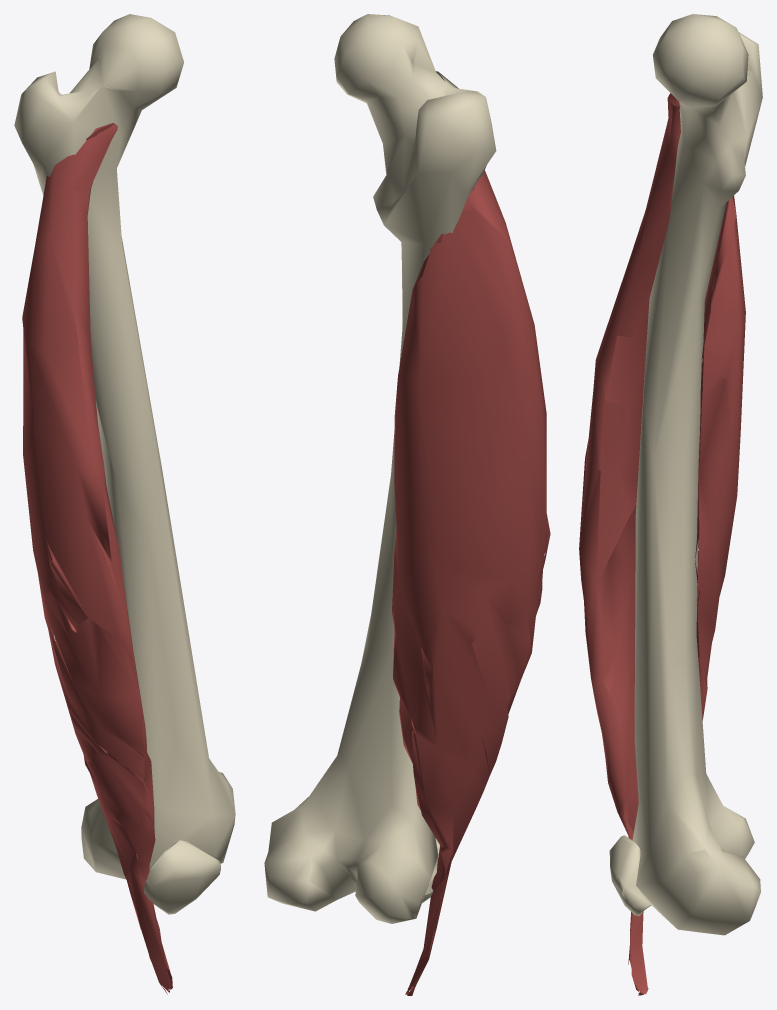
Rendered from muscle-context.glb.
The picture shows the model from 3 angles, left to right: view 1: azimuth 30°, elevation 25°; view 2: azimuth 150°, elevation 25°; view 3: azimuth 270°, elevation 25°; orthographic projection. The views are drawn at different scales.
Visible parts, largest first — view 1: FJ3365, FJ1442, FJ3381; view 2: FJ1442, FJ3365; view 3: FJ3365, FJ1442, FJ3381.
Boxes of the visible parts, x1,y1,x2,y2 form: FJ3365: [14, 14, 235, 879]; FJ1442: [22, 123, 172, 994]; FJ3381: [143, 840, 220, 914]; FJ1442: [392, 170, 550, 995]; FJ3365: [264, 14, 496, 923]; FJ3365: [632, 14, 762, 935]; FJ1442: [579, 93, 745, 995]; FJ3381: [609, 835, 650, 916].
Size of the model in its own units: 0.1263 by 0.5166 by 0.0881.
